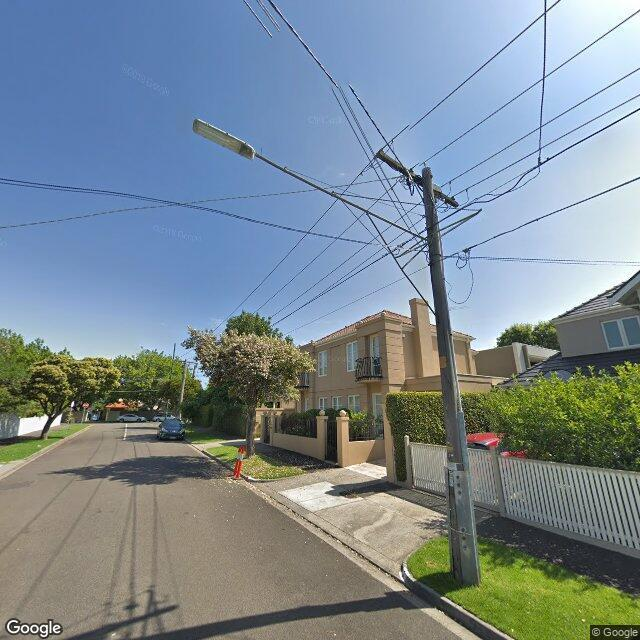crossarm: (376, 147, 458, 210)
streetlight: (192, 118, 429, 242)
timber-pole: (423, 168, 480, 586), (178, 359, 188, 420)
